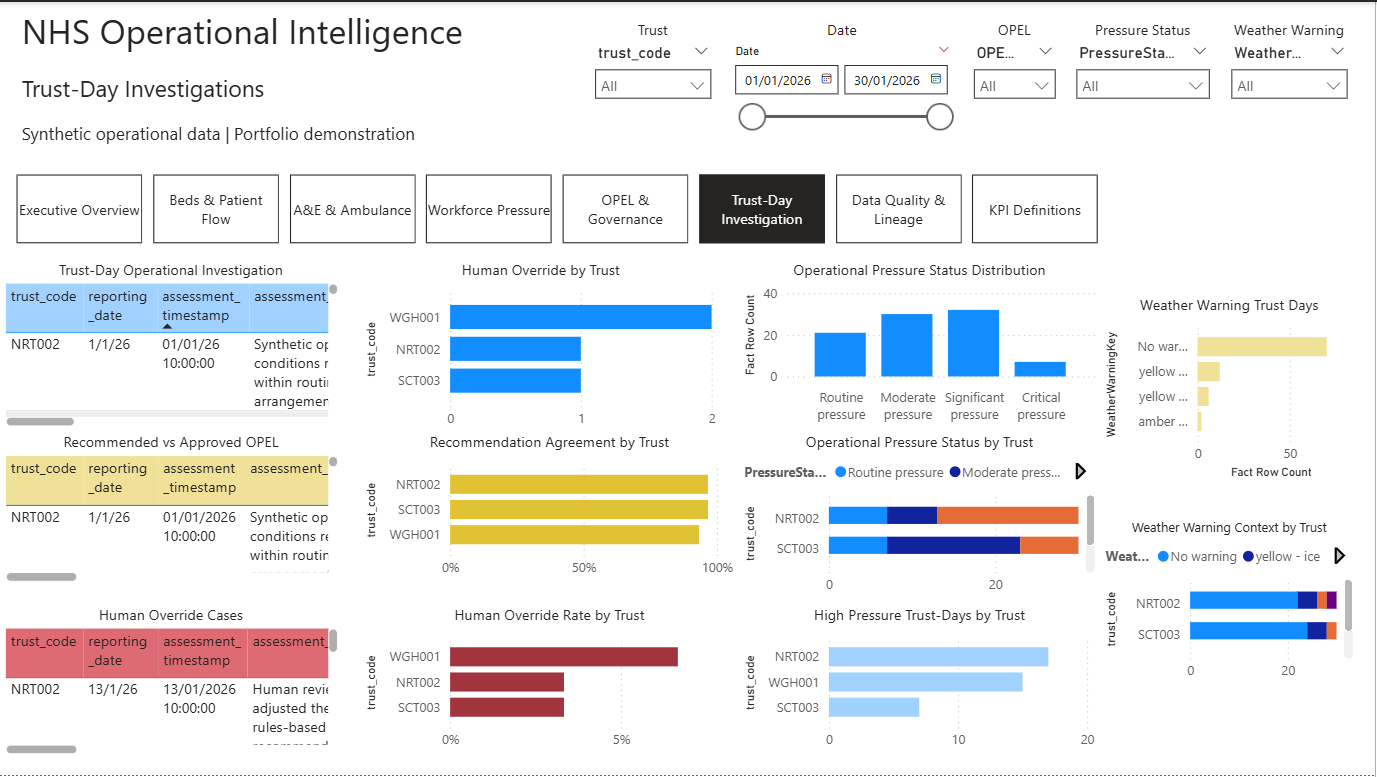

This screenshot's page, from the dashboard's own definition file:
{"tool":"powerbi","page":{"name":"Trust-Day Investigation","canvas":[1280,720],"ordinal":7},"visuals":[{"type":"textbox","box":[16,0,1264,160],"z":0},{"type":"pageNavigator","box":[16,160,1008,64],"z":1000},{"type":"slicer","title":"Date","fields":{"Values":["DimDate.Date"]},"box":[672,16,224,112],"z":2000},{"type":"slicer","title":"Trust","fields":{"Values":["DimTrust.trust_code"]},"box":[544,16,128,80],"z":3000},{"type":"slicer","title":"OPEL","fields":{"Values":["DimOPEL.OPELLabel"]},"box":[896,16,96,96],"z":4000},{"type":"slicer","title":"Pressure Status","fields":{"Values":["DimPressureStatus.PressureStatus"]},"box":[992,16,144,80],"z":5000},{"type":"tableEx","title":"Trust-Day Operational Investigation","fields":{"Values":["DimTrust.trust_code","FactTrustDailyOperations.reporting_date","FactTrustDailyOperations.assessment_timestamp","FactTrustDailyOperations.assessment_rationale","FactTrustDailyOperations.recommended_opel_level","FactTrustDailyOperations.approved_opel_level","FactTrustDailyOperations.previous_approved_opel_level","FactTrustDailyOperations.operational_pressure_status","FactTrustDailyOperations.human_override_indicator","FactTrustDailyOperations.prediction_confidence","FactTrustDailyOperations.approval_status","FactTrustDailyOperations.assessed_by_role"]},"box":[0,240,320,160],"z":6000},{"type":"tableEx","title":"Recommended vs Approved  OPEL","fields":{"Values":["DimTrust.trust_code","FactTrustDailyOperations.reporting_date","FactTrustDailyOperations.assessment_timestamp","FactTrustDailyOperations.assessment_rationale","FactTrustDailyOperations.recommended_opel_level","FactTrustDailyOperations.approved_opel_level","FactTrustDailyOperations.previous_approved_opel_level","FactTrustDailyOperations.human_override_indicator","FactTrustDailyOperations.prediction_confidence","FactTrustDailyOperations.approval_status","FactTrustDailyOperations.assessed_by_role","FactTrustDailyOperations.reviewed_by_role"]},"box":[0,400,320,144],"z":7000},{"type":"tableEx","title":"Human Override Cases","fields":{"Values":["DimTrust.trust_code","FactTrustDailyOperations.reporting_date","FactTrustDailyOperations.assessment_timestamp","FactTrustDailyOperations.assessment_rationale","FactTrustDailyOperations.recommended_opel_level","FactTrustDailyOperations.approved_opel_level","FactTrustDailyOperations.previous_approved_opel_level","FactTrustDailyOperations.human_override_indicator","FactTrustDailyOperations.prediction_confidence","FactTrustDailyOperations.approval_status","FactTrustDailyOperations.assessed_by_role","FactTrustDailyOperations.reviewed_by_role"]},"box":[0,560,320,144],"z":8000},{"type":"clusteredBarChart","title":"Human Override by Trust","fields":{"Category":["DimTrust.trust_code"],"Y":["_Measures.Human Override Count"]},"box":[336,240,336,176],"z":9000},{"type":"clusteredBarChart","title":"Recommendation Agreement by Trust","fields":{"Category":["DimTrust.trust_code"],"Y":["_Measures.Recommendation Agreement Percentage"]},"box":[336,400,352,144],"z":10000},{"type":"clusteredBarChart","title":"Human Override Rate by Trust","fields":{"Category":["DimTrust.trust_code"],"Y":["_Measures.Human Override Percentage"]},"box":[336,560,352,144],"z":11000},{"type":"clusteredColumnChart","title":"Operational Pressure Status Distribution","fields":{"Category":["DimPressureStatus.PressureStatus"],"Y":["_Measures.Fact Row Count"]},"box":[688,240,336,160],"z":12000},{"type":"barChart","title":"Operational Pressure Status by Trust","fields":{"Category":["DimTrust.trust_code"],"Y":["_Measures.Fact Row Count"],"Series":["DimPressureStatus.PressureStatus"]},"box":[688,400,336,160],"z":13000},{"type":"clusteredBarChart","title":"High Pressure Trust-Days  by Trust","fields":{"Category":["DimTrust.trust_code"],"Y":["_Measures.High Operational-Pressure Days"]},"box":[688,560,336,144],"z":14000},{"type":"clusteredBarChart","title":"Weather Warning Trust Days","fields":{"Category":["DimWeatherWarning.WeatherWarningKey"],"Y":["_Measures.Fact Row Count"]},"box":[1024,272,240,176],"z":15000},{"type":"barChart","title":"Weather Warning Context by Trust","fields":{"Category":["DimTrust.trust_code"],"Y":["_Measures.Fact Row Count"],"Series":["DimWeatherWarning.WeatherWarningKey"]},"box":[1024,480,240,160],"z":16000},{"type":"slicer","title":"Weather Warning","fields":{"Values":["DimWeatherWarning.WeatherWarningKey"]},"box":[1136,16,128,80],"z":17000}]}

Visuals, with their boxes in screenshot pixels (x1, y1, x2, y2), scaled from the page's 1280x720 canvas onto the 1377x777 screenshot:
textbox: (17, 0, 1376, 173)
pageNavigator: (17, 173, 1102, 242)
"Date" slicer: (723, 17, 964, 138)
"Trust" slicer: (585, 17, 723, 104)
"OPEL" slicer: (964, 17, 1067, 121)
"Pressure Status" slicer: (1067, 17, 1222, 104)
"Trust-Day Operational Investigation" tableEx: (0, 259, 344, 432)
"Recommended vs Approved  OPEL" tableEx: (0, 432, 344, 587)
"Human Override Cases" tableEx: (0, 604, 344, 760)
"Human Override by Trust" clusteredBarChart: (361, 259, 723, 449)
"Recommendation Agreement by Trust" clusteredBarChart: (361, 432, 740, 587)
"Human Override Rate by Trust" clusteredBarChart: (361, 604, 740, 760)
"Operational Pressure Status Distribution" clusteredColumnChart: (740, 259, 1102, 432)
"Operational Pressure Status by Trust" barChart: (740, 432, 1102, 604)
"High Pressure Trust-Days  by Trust" clusteredBarChart: (740, 604, 1102, 760)
"Weather Warning Trust Days" clusteredBarChart: (1102, 294, 1360, 483)
"Weather Warning Context by Trust" barChart: (1102, 518, 1360, 691)
"Weather Warning" slicer: (1222, 17, 1360, 104)
